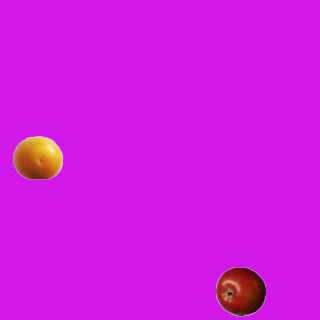Apple Braeburn: (215, 266, 265, 316)
Cherry Wax Yellow: (12, 132, 62, 182)
